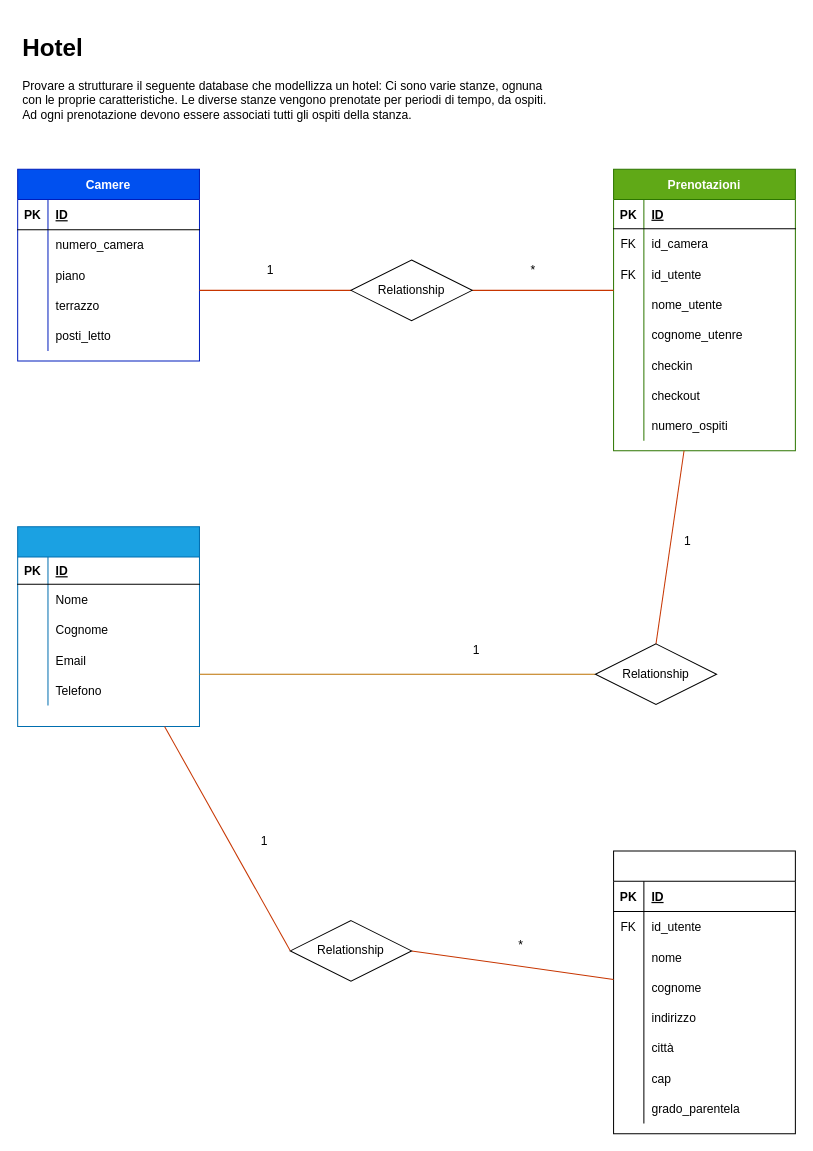
Some shapes in this 813 by 1151 pixel diagram are drawn without their labels. Here are the shapes that lost their labels. From the top down, the box of each, then its label:
(17, 526, 199, 726): Utenti
(613, 850, 795, 1134): Ospiti
